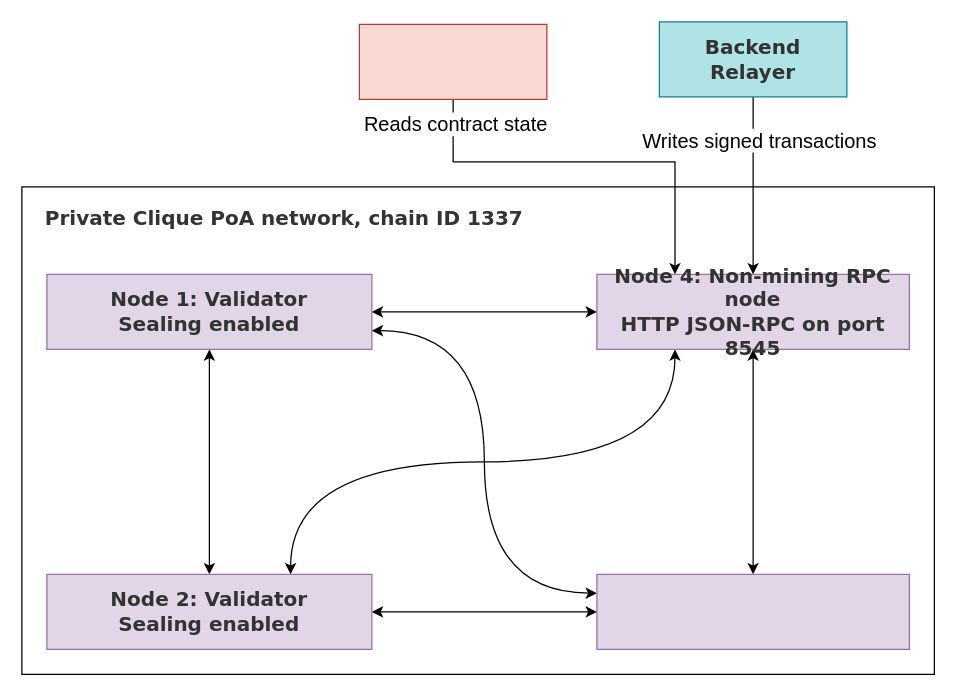
This 956x696 diagram has some shape labels left out. Here are the shapes that lost their labels. From the top down, the box of each, then its label:
(358, 23, 547, 99): DApp
(596, 573, 909, 649): Node 3: Validator Sealing enabled
